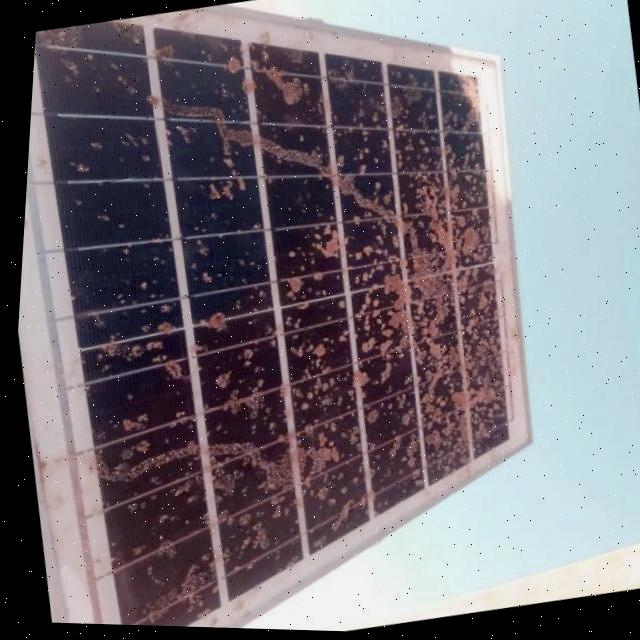Surface Contaminant: (64, 236, 517, 514), (28, 62, 499, 328), (101, 492, 305, 632), (23, 4, 228, 125)
